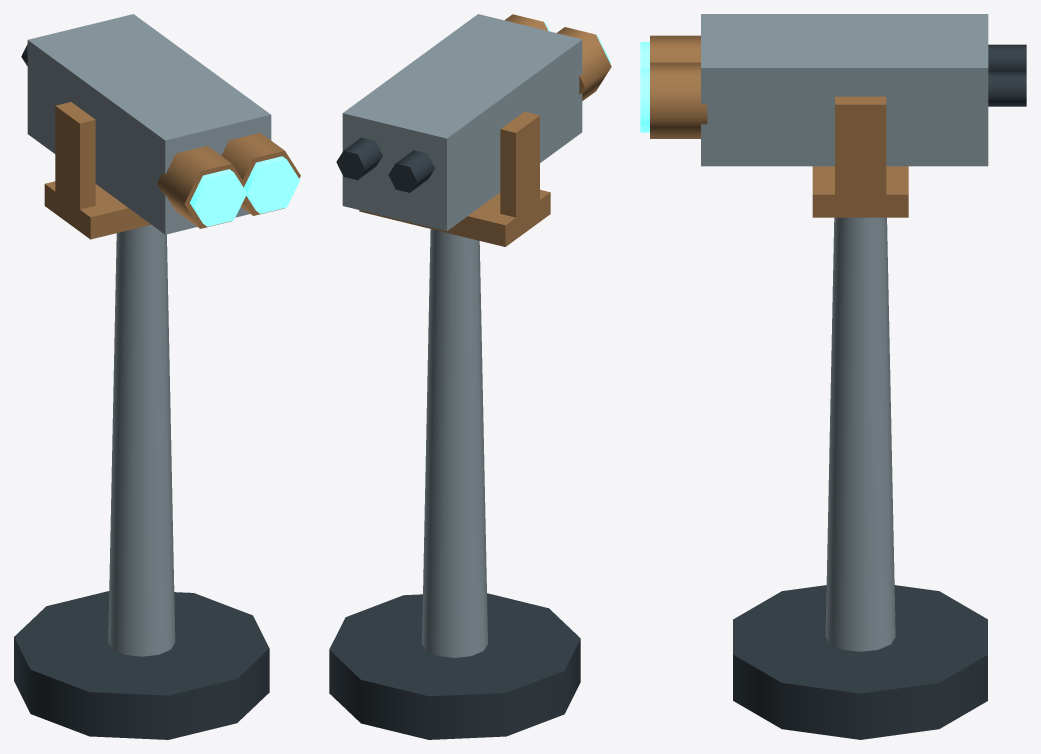
File: telescope.lod2.glb
3 views of the same model, side by side, from view 1: azimuth 30°, elevation 25°; view 2: azimuth 150°, elevation 25°; view 3: azimuth 270°, elevation 25° (orthographic). The views are drawn at different scales.
Parts seen in each view (by area): view 1: structure, tube; view 2: structure, tube; view 3: structure, tube.
Part boxes in pixels (box(x1,y1,x2,y2)): structure: box(14, 102, 269, 739); tube: box(21, 14, 300, 234); structure: box(329, 111, 580, 739); tube: box(336, 14, 611, 231); structure: box(733, 96, 987, 739); tube: box(640, 14, 1026, 166).
Bounding box in the file's own units: 0.84 × 2.22 × 1.21.
